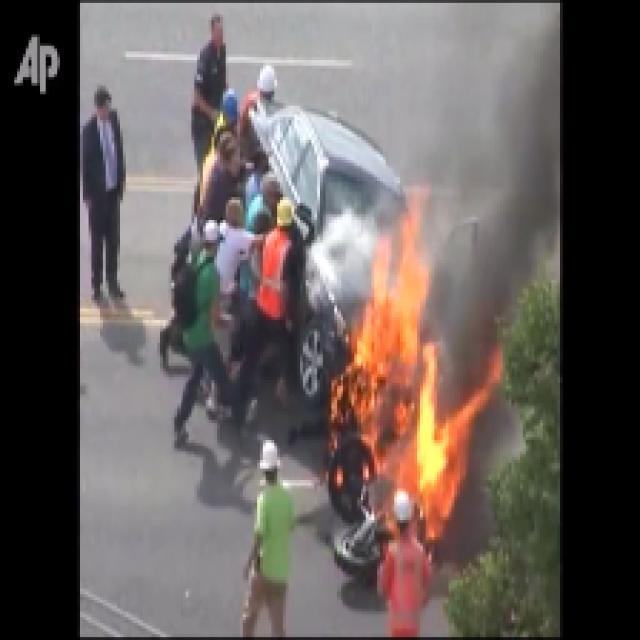Fire: (360, 323, 443, 523)
Smoke: (450, 239, 500, 357)
